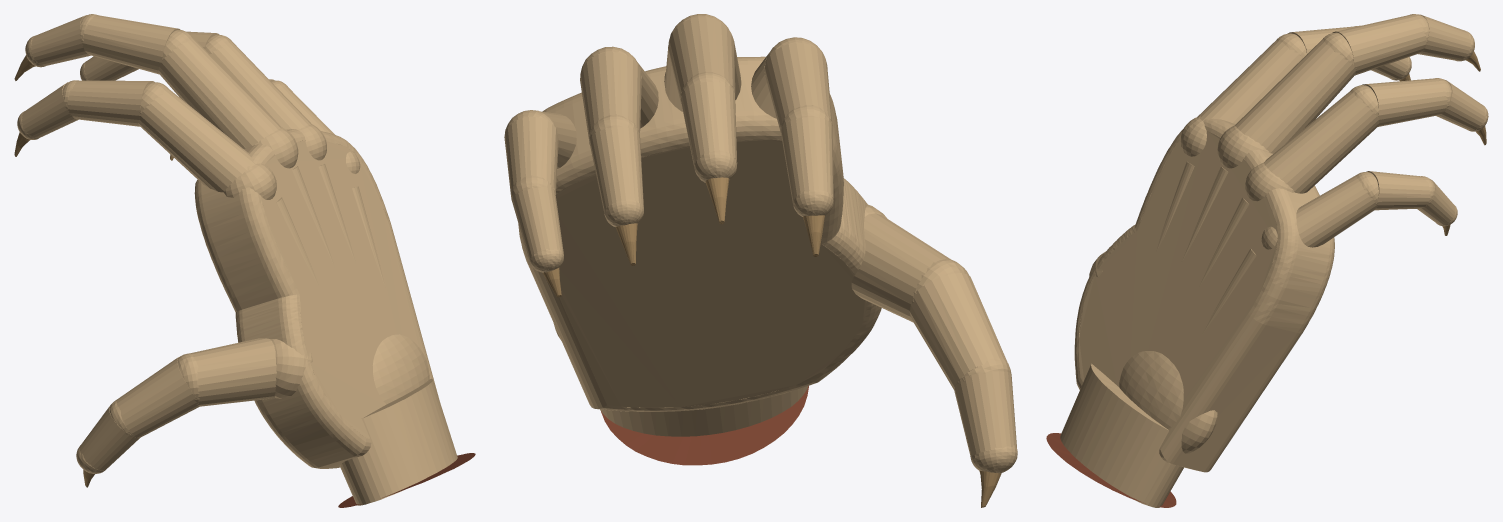
Rendered from floating-hand.obj.
3 views of the same model, side by side, from view 1: azimuth 30°, elevation 25°; view 2: azimuth 150°, elevation 25°; view 3: azimuth 270°, elevation 25° (orthographic). The views are drawn at different scales.
Visible parts, largest first — view 1: palm, wrist, middle_phalanx1, index_phalanx1, thumb_phalanx1, middle_phalanx2, thumb_phalanx2, index_phalanx2, palm_heel, ring_phalanx1, thumb_phalanx3, middle_phalanx3 (+13 smaller); view 2: palm, thumb_phalanx2, thumb_phalanx1, wrist_stump_cut, wrist, thumb_phalanx3, index_phalanx2, ring_phalanx2, middle_phalanx2, middle_phalanx3, index_phalanx3, ring_phalanx3 (+15 smaller); view 3: palm, wrist, middle_phalanx1, ring_phalanx1, palm_heel, index_phalanx1, pinky_phalanx1, middle_phalanx2, ring_phalanx2, pinky_phalanx2, middle_phalanx3, ring_phalanx3 (+11 smaller).
Boxes of the visible parts, left/top/right/bottom form: palm: left=194, top=129, right=438, bottom=468; wrist: left=340, top=378, right=457, bottom=505; middle_phalanx1: left=158, top=38, right=280, bottom=148; index_phalanx1: left=138, top=88, right=254, bottom=192; thumb_phalanx1: left=190, top=338, right=276, bottom=406; middle_phalanx2: left=82, top=15, right=180, bottom=74; thumb_phalanx2: left=115, top=357, right=199, bottom=438; index_phalanx2: left=67, top=80, right=154, bottom=126; palm_heel: left=372, top=334, right=429, bottom=404; ring_phalanx1: left=210, top=41, right=311, bottom=129; thumb_phalanx3: left=79, top=405, right=139, bottom=470; middle_phalanx3: left=31, top=15, right=90, bottom=65; palm: left=518, top=56, right=881, bottom=411; thumb_phalanx2: left=909, top=273, right=1007, bottom=389; thumb_phalanx1: left=851, top=213, right=951, bottom=322; wrist_stump_cut: left=601, top=386, right=808, bottom=465; wrist: left=600, top=386, right=807, bottom=436; thumb_phalanx3: left=954, top=371, right=1017, bottom=456; index_phalanx2: left=764, top=42, right=832, bottom=132; ring_phalanx2: left=580, top=51, right=641, bottom=140; middle_phalanx2: left=668, top=17, right=735, bottom=104; middle_phalanx3: left=681, top=81, right=737, bottom=166; index_phalanx3: left=781, top=117, right=833, bottom=202; ring_phalanx3: left=589, top=126, right=643, bottom=212; palm: left=1074, top=116, right=1334, bottom=472; wrist: left=1060, top=363, right=1183, bottom=507; middle_phalanx1: left=1235, top=39, right=1355, bottom=153; ring_phalanx1: left=1263, top=90, right=1379, bottom=193; palm_heel: left=1119, top=351, right=1217, bottom=453; index_phalanx1: left=1197, top=40, right=1302, bottom=123; pinky_phalanx1: left=1296, top=174, right=1376, bottom=247; middle_phalanx2: left=1332, top=15, right=1426, bottom=75; ring_phalanx2: left=1362, top=78, right=1447, bottom=126; pinky_phalanx2: left=1366, top=171, right=1430, bottom=210; middle_phalanx3: left=1418, top=14, right=1471, bottom=60; ring_phalanx3: left=1436, top=80, right=1485, bottom=130.
Size of the model in its own units: 0.1439 by 0.1679 by 0.1635.
